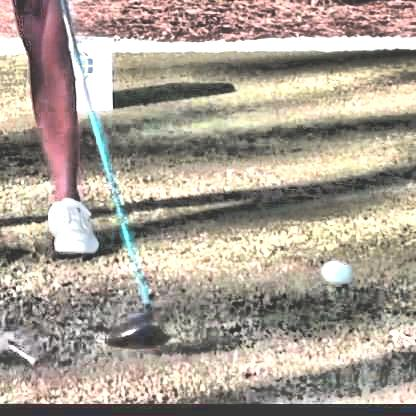golfball: (314, 257, 346, 282)
